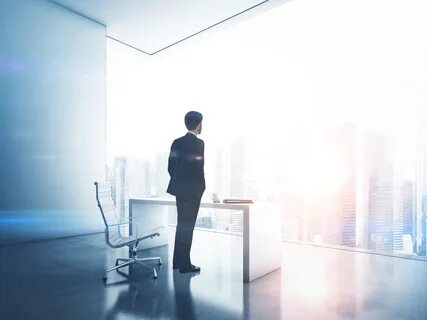awake: (167, 110, 206, 274)
